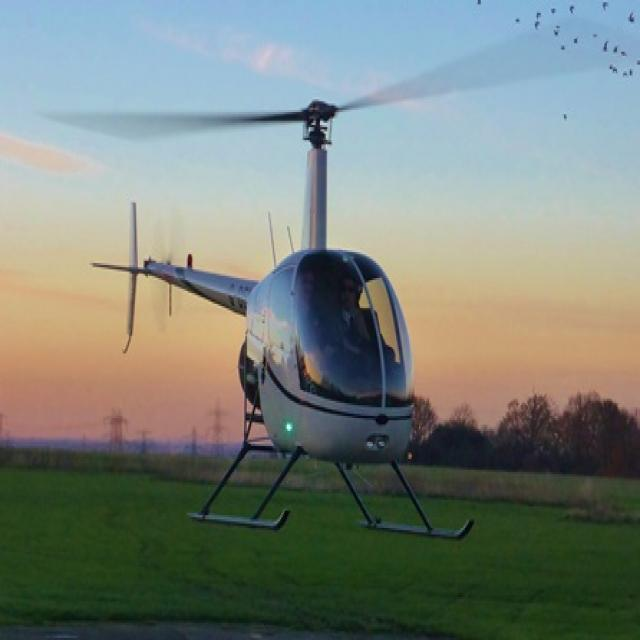helicopter: (87, 98, 473, 542)
